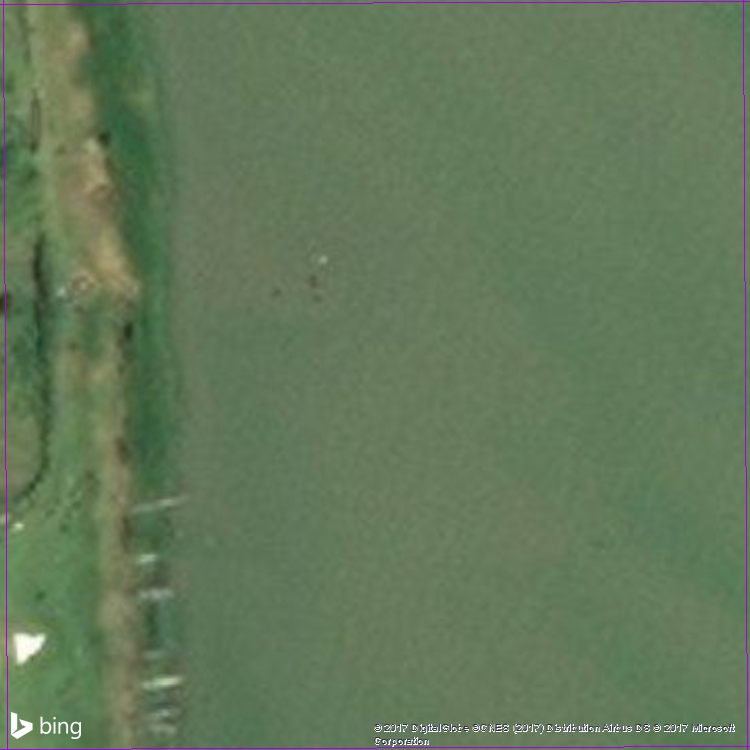boat: (117, 487, 202, 518), (126, 667, 201, 699), (118, 579, 193, 605), (127, 695, 193, 721), (126, 640, 181, 666), (134, 719, 196, 740), (116, 546, 181, 566)
